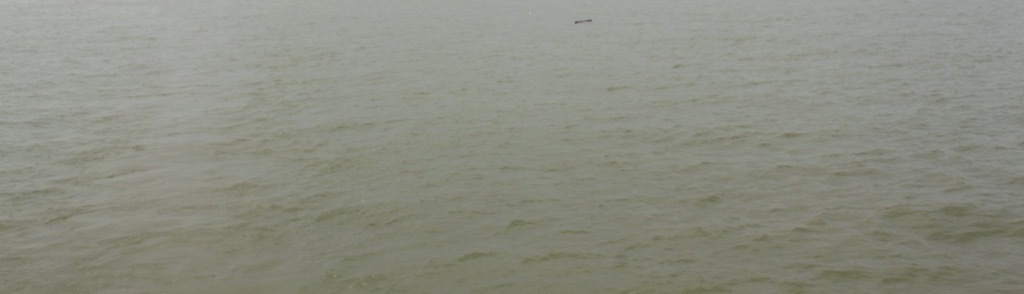organic: (568, 14, 594, 30)
plastic: (521, 7, 538, 20)
